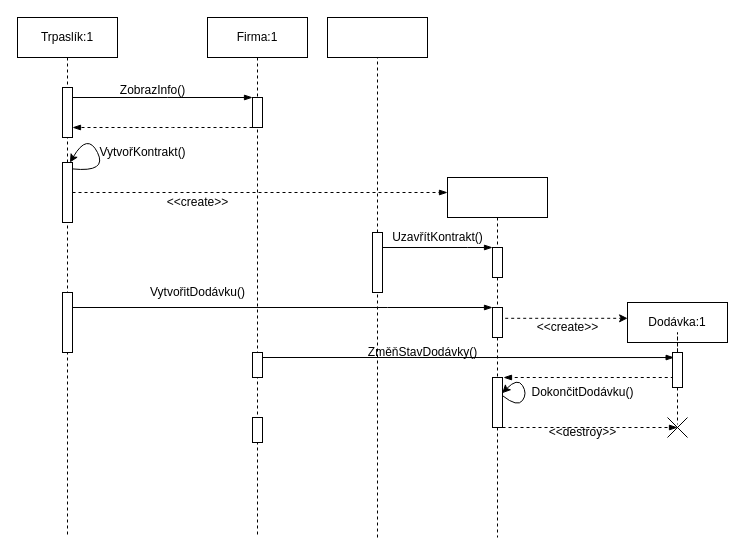
This 745x556 diagram has some shape labels left out. Each missing label, with the box of its shape:
Firma:2: (326, 16, 428, 58)
Kontrakt:1: (446, 176, 548, 538)
